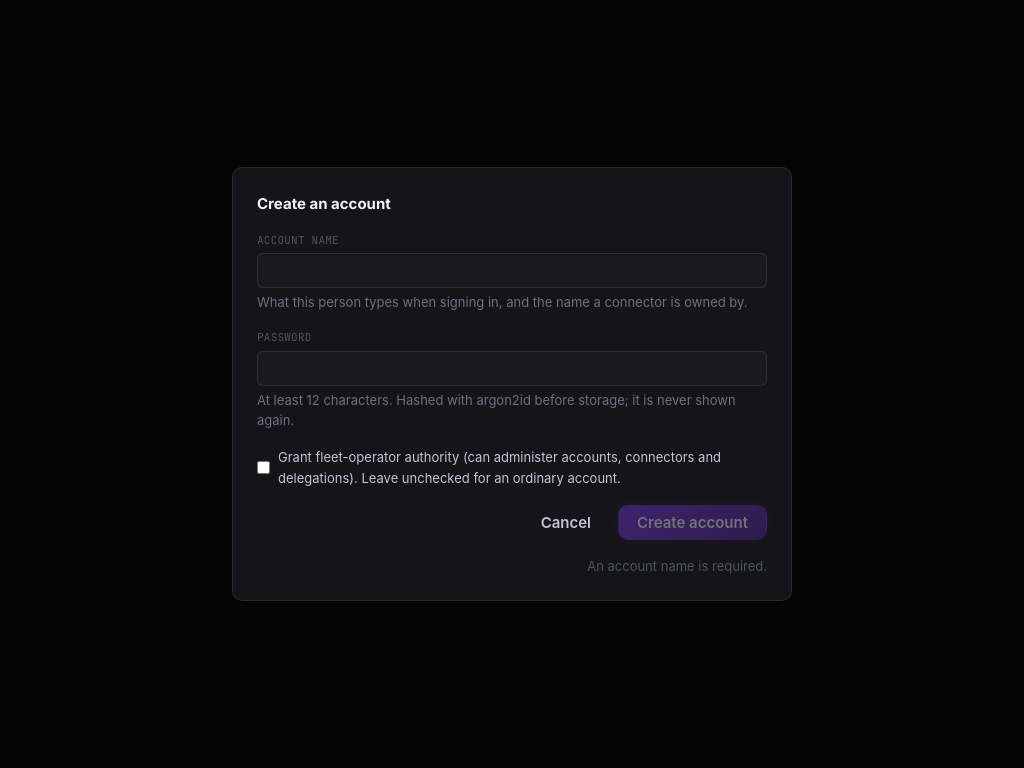
Scenario: AccountCreateDialog — the password does not outlive the flow › clears the password on a REFUSAL, and the refusal never quotes it
Type "taken" into the field labelled "Account name" at (512, 271), box [257,253,767,288]
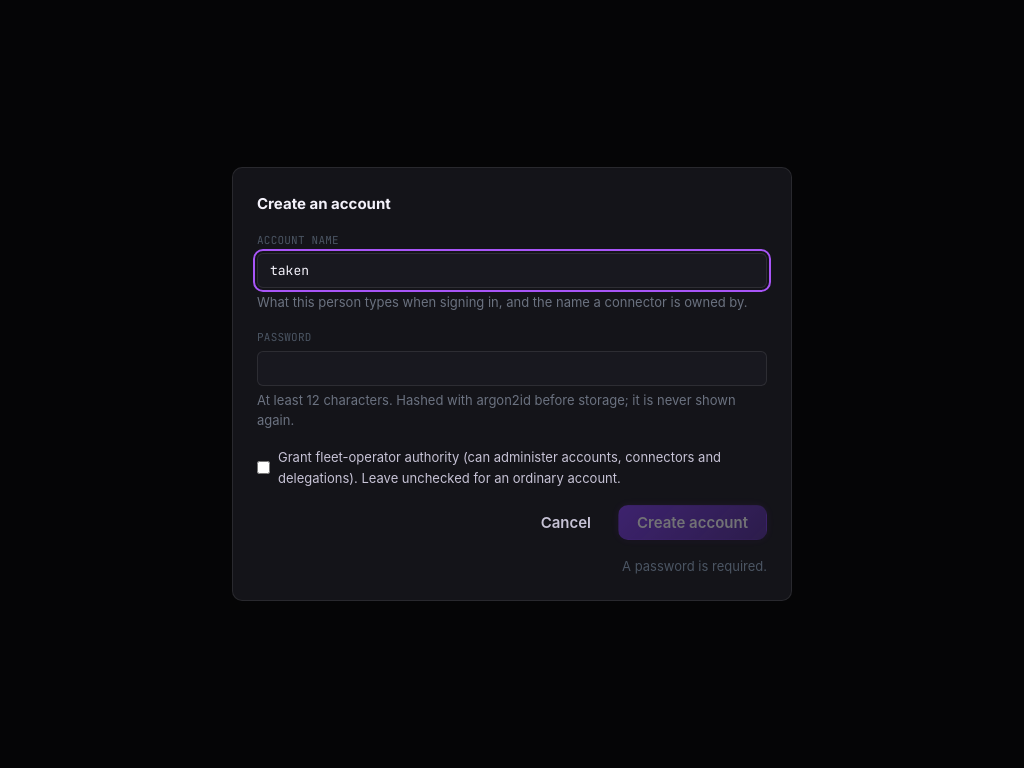
Type "a-synthetic-passphrase-for-this-test" into the password field labelled "Password" at (512, 368), box [257,350,767,386]
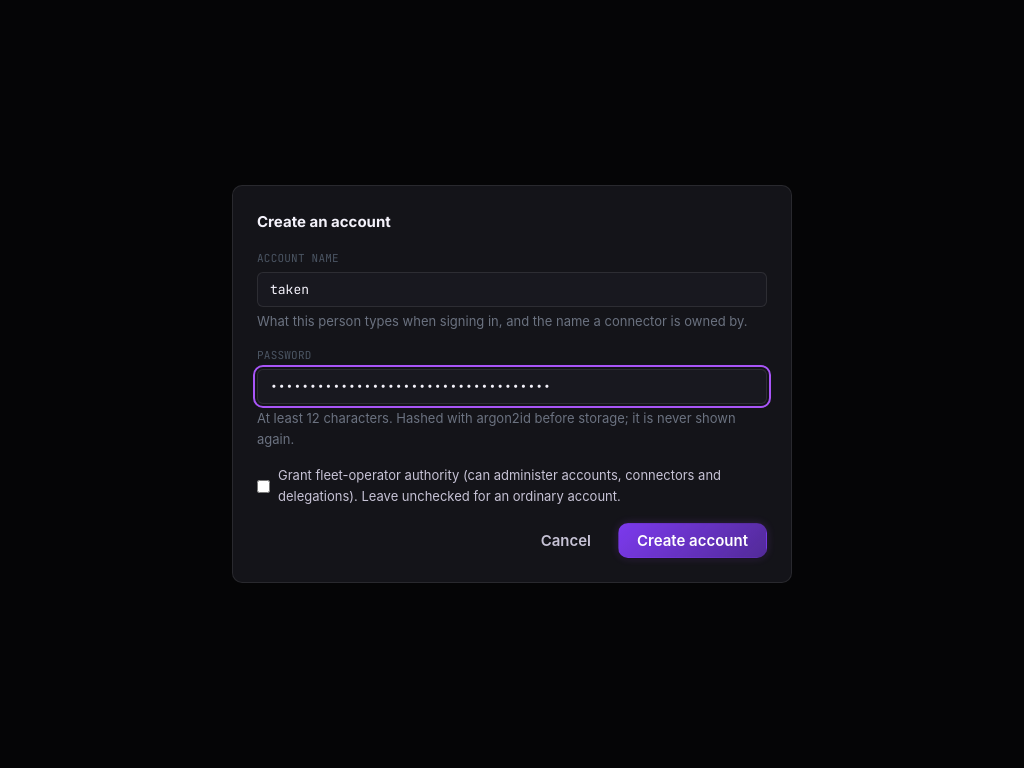
Click the button "Create account" at (692, 541), box [618,523,767,558]
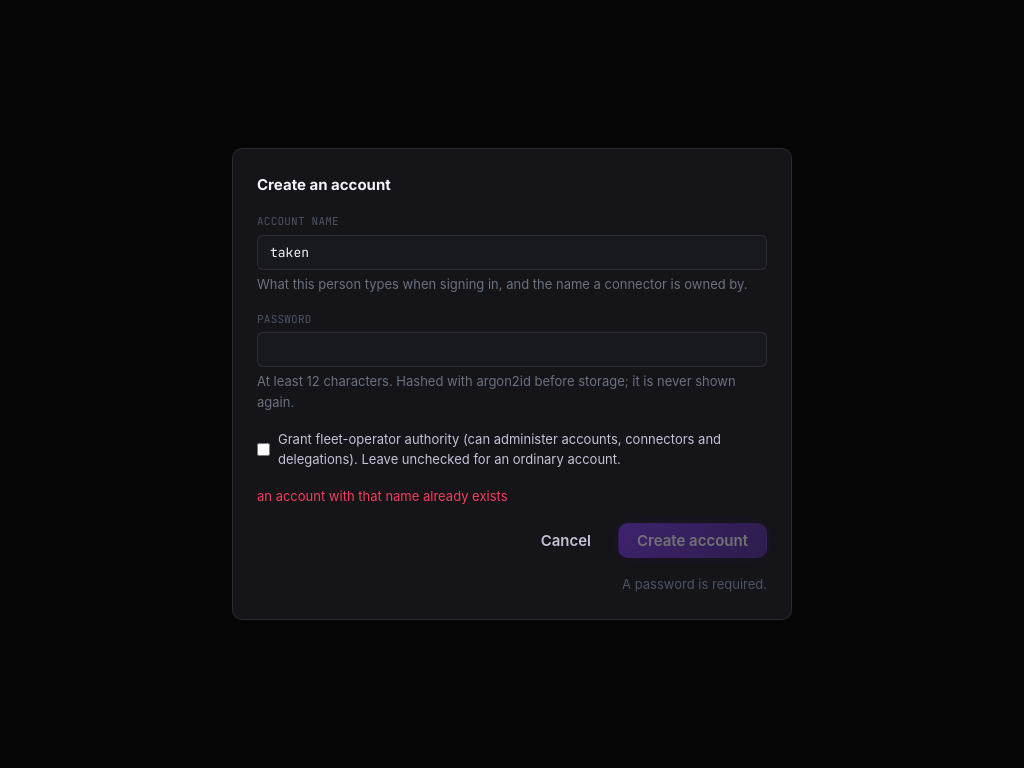
Result: the text "an account with that name already exists" is shown at [257,488,508,504]
